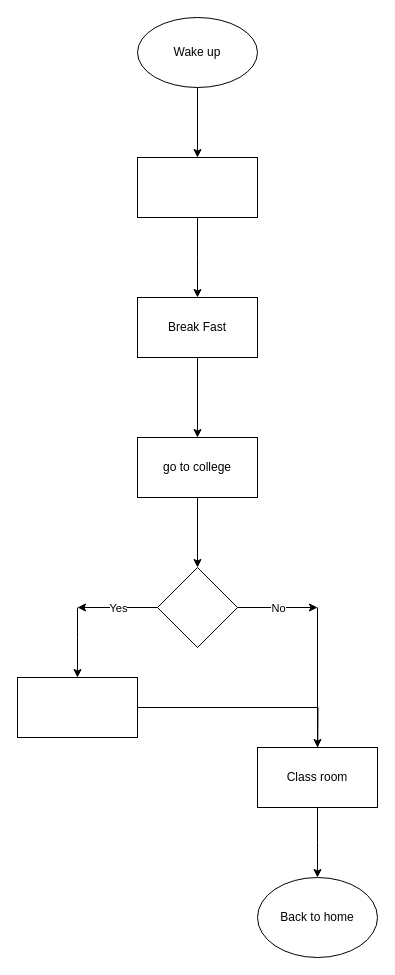
This 395x975 diagram has some shape labels left out. Here are the shapes that lost their labels. From the top down, the centre of each, then its label:
point 197,187: Groom my self
point 197,607: Washroom?
point 77,707: Washroom
